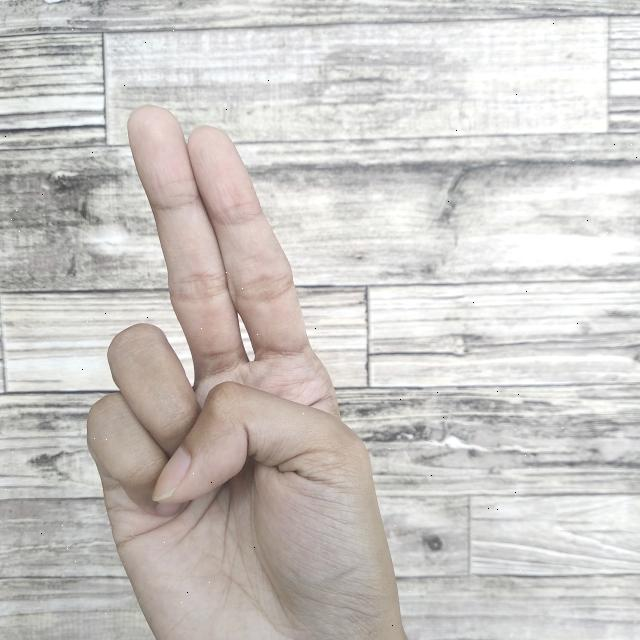U: (77, 99, 408, 640)
